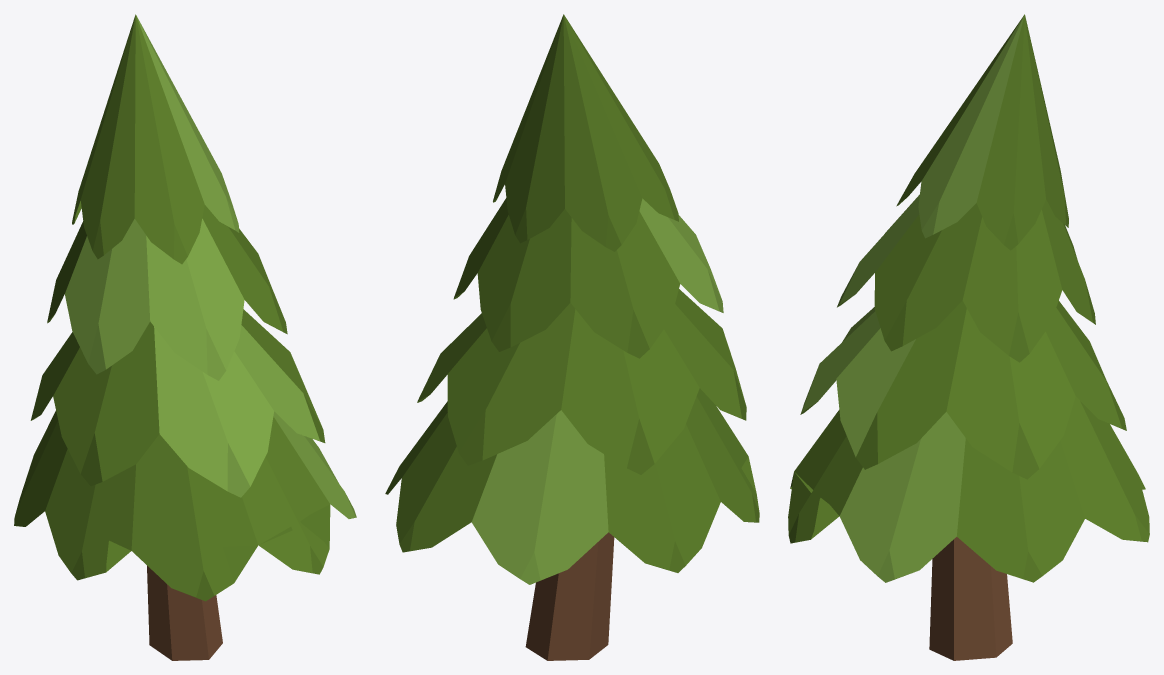
The model's file is intro-tree-b.glb.
3 renders of one model, left to right at view 1: azimuth 30°, elevation 25°; view 2: azimuth 150°, elevation 25°; view 3: azimuth 270°, elevation 25°, orthographic. The views are drawn at different scales.
Visible parts, largest first — view 1: Tree4; view 2: Tree4; view 3: Tree4.
Boxes of the visible parts, box(x1,y1,x2,y2) form: Tree4: box(14, 14, 356, 660); Tree4: box(385, 14, 759, 660); Tree4: box(788, 14, 1149, 660).
Size of the model in its own units: 1.08 by 2.24 by 1.18.
